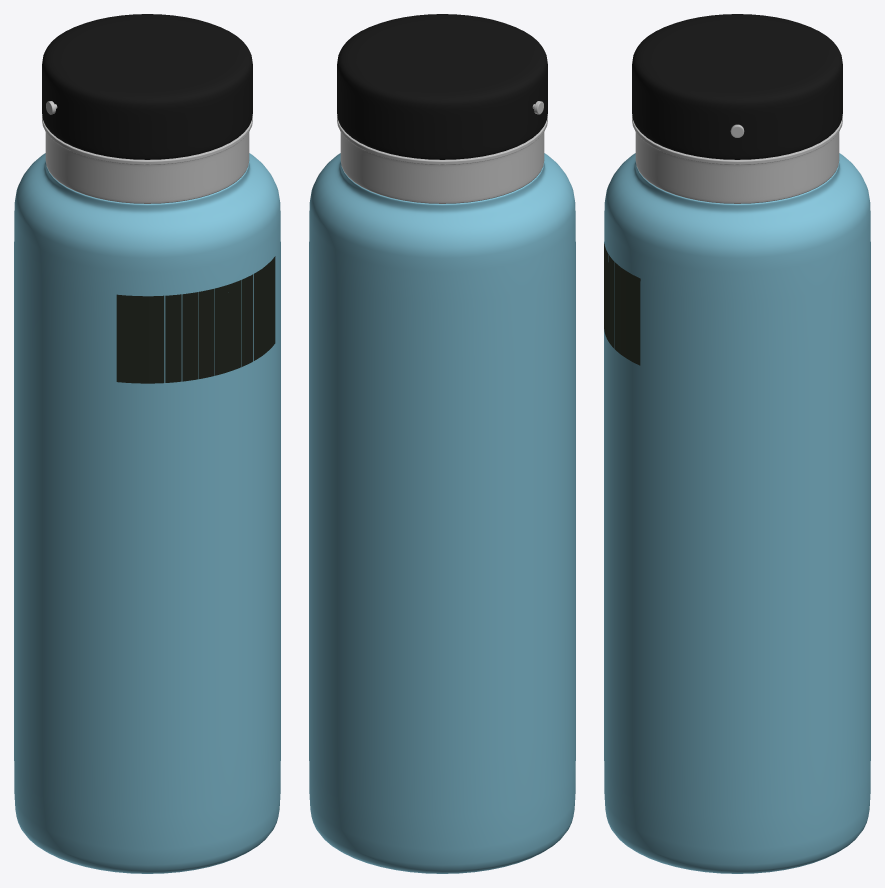
Rendered from blue flask.glb.
3 renders of one model, left to right at view 1: azimuth 30°, elevation 25°; view 2: azimuth 150°, elevation 25°; view 3: azimuth 270°, elevation 25°, orthographic.
Parts seen in each view (by area): view 1: Circle, Circle.002, Plane, Circle.001; view 2: Circle, Circle.002, Circle.001; view 3: Circle, Circle.002, Circle.001, Plane.
Boxes of the visible parts, x1,y1,x2,y2 form: Circle: (14, 153, 280, 873); Circle.002: (42, 14, 252, 159); Plane: (116, 256, 275, 383); Circle.001: (42, 116, 252, 203); Circle: (309, 153, 575, 873); Circle.002: (337, 14, 547, 159); Circle.001: (337, 116, 547, 203); Circle: (604, 153, 870, 873); Circle.002: (632, 14, 842, 159); Circle.001: (632, 116, 842, 203); Plane: (604, 243, 640, 365).
Bounding box in the file's own units: 1.91 × 6.09 × 1.91.
